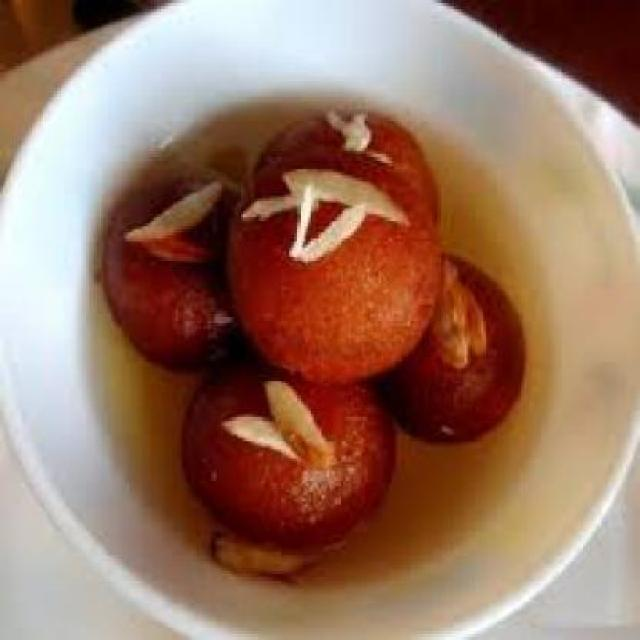gulab_jamun: (228, 151, 440, 383), (181, 352, 397, 550), (102, 147, 243, 370), (376, 250, 526, 444), (252, 112, 437, 225)
